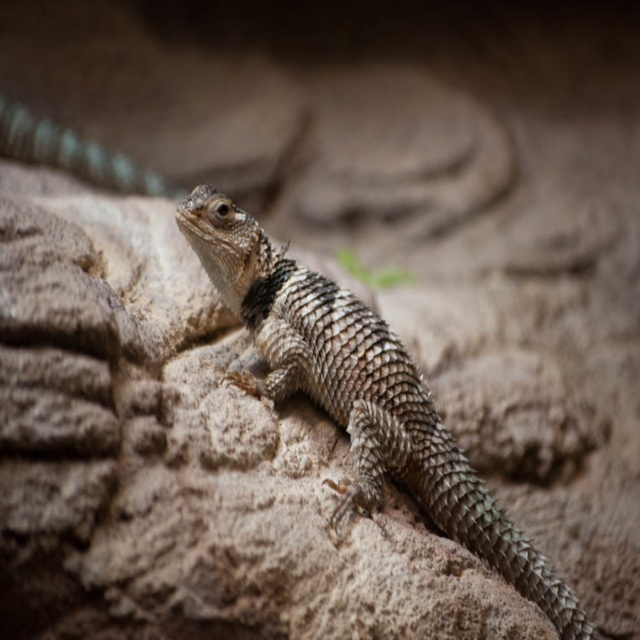Lizard: (175, 182, 596, 636)
